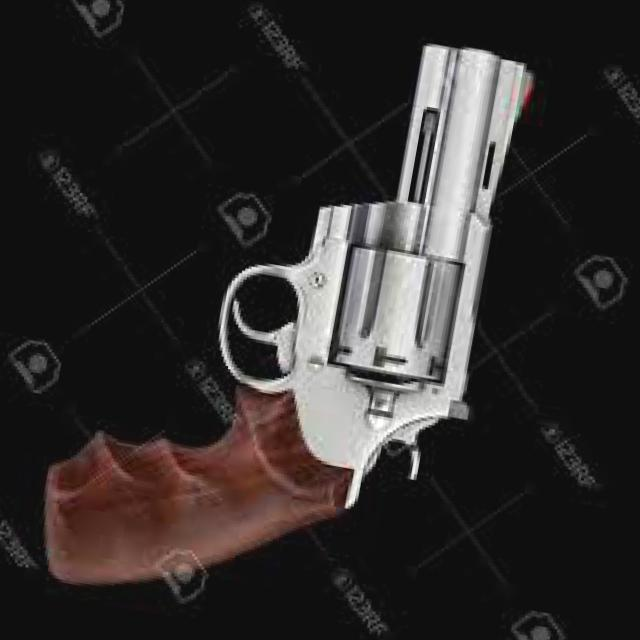handgun: (27, 0, 551, 639)
